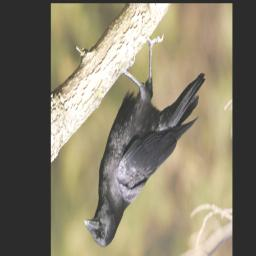Crow: (80, 28, 206, 249)
